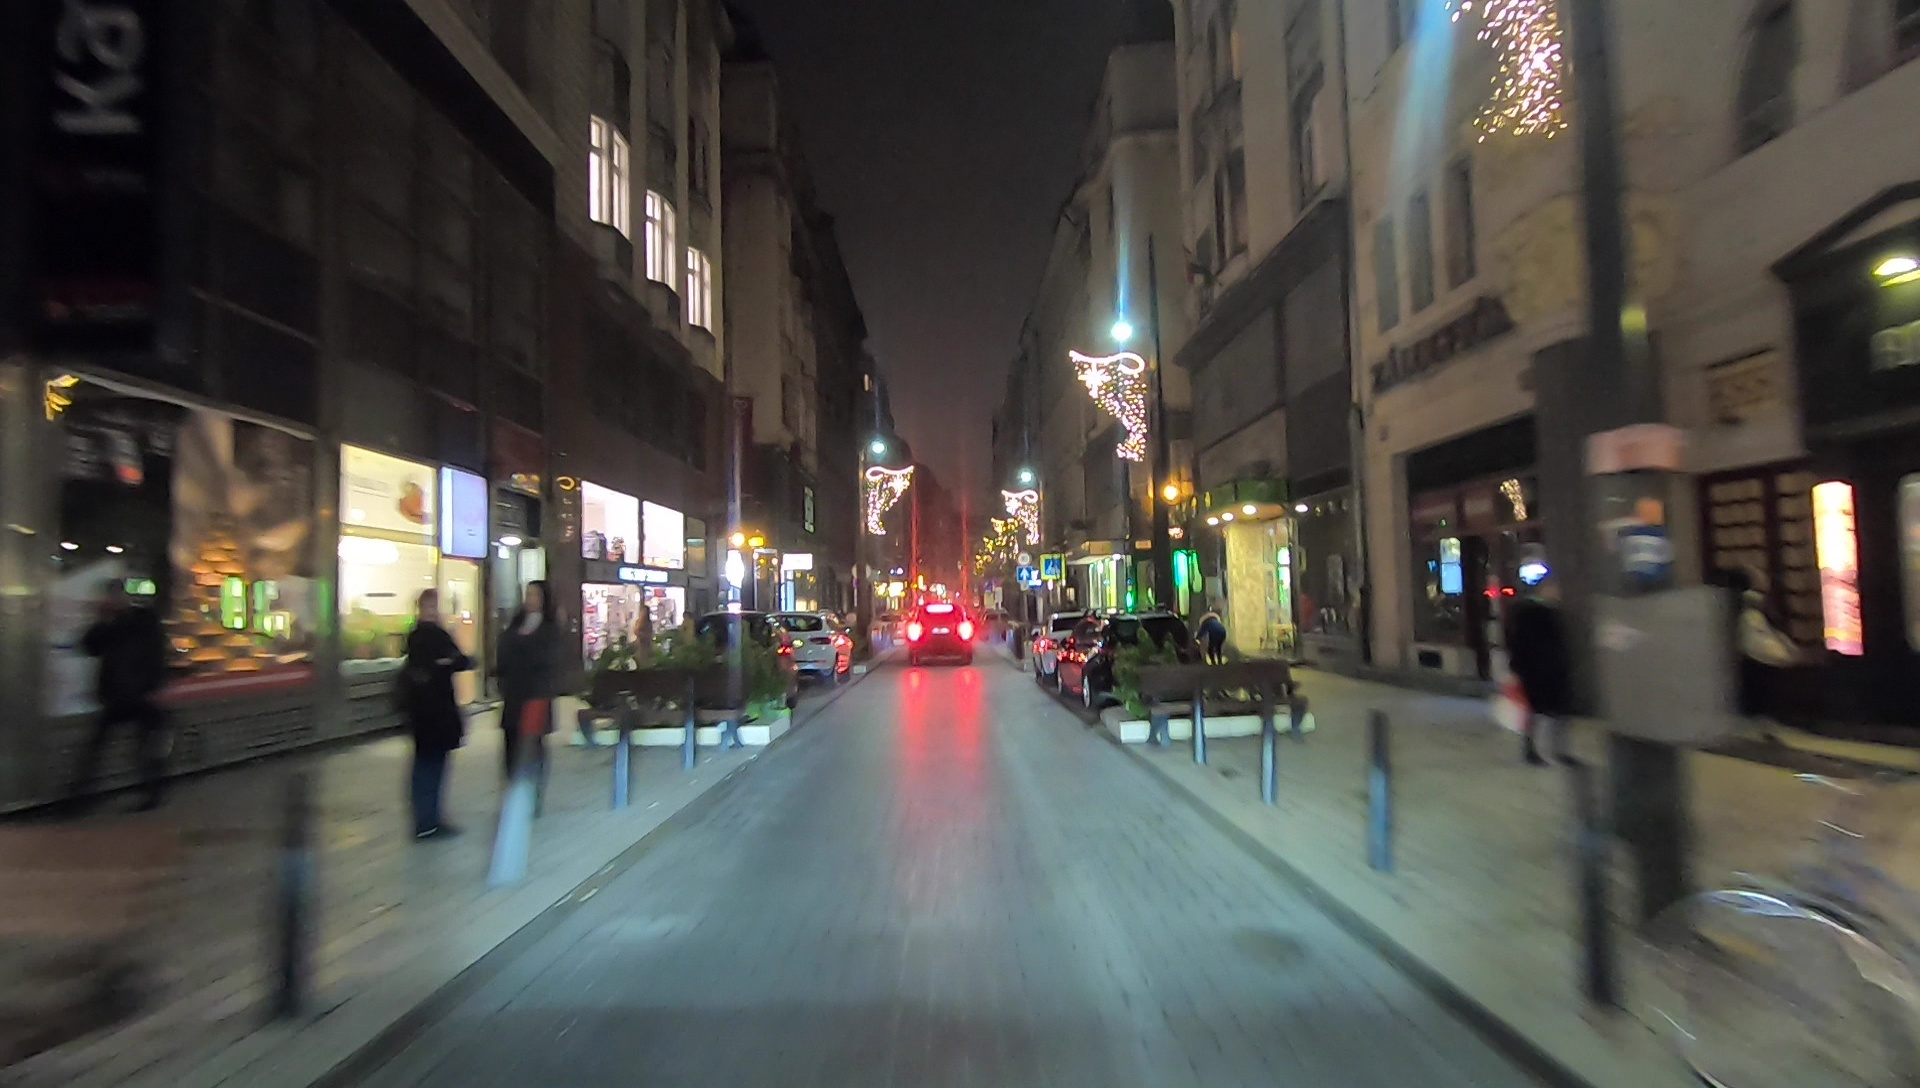person: (58, 573, 178, 802), (397, 591, 469, 845), (491, 576, 564, 819), (1504, 576, 1584, 776), (1720, 567, 1794, 749), (1197, 610, 1226, 672), (635, 605, 657, 686)
